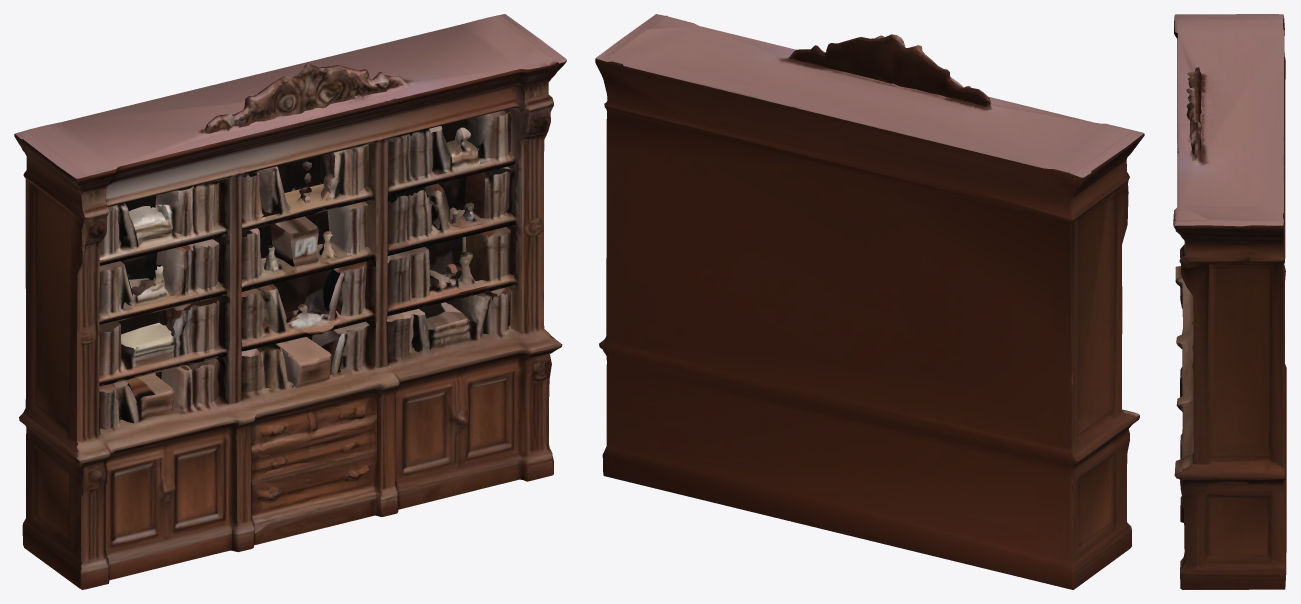
File: bookcase.glb
3 views of the same model, side by side, from view 1: azimuth 30°, elevation 25°; view 2: azimuth 150°, elevation 25°; view 3: azimuth 270°, elevation 25° (orthographic). The views are drawn at different scales.
Parts seen in each view (by area): view 1: tmpr66b1zsi.ply; view 2: tmpr66b1zsi.ply; view 3: tmpr66b1zsi.ply.
Part boxes in pixels (<box>): tmpr66b1zsi.ply: <box>14,14,566,589</box>; tmpr66b1zsi.ply: <box>595,14,1144,589</box>; tmpr66b1zsi.ply: <box>1173,14,1286,589</box>.
Bounding box in the file's own units: 1.96 × 1.77 × 0.4426.
Materials: 1 (1 with a texture image).
